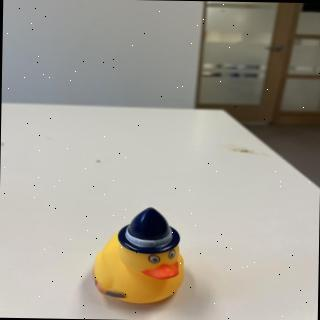duck_specialty: (91, 205, 189, 306)
